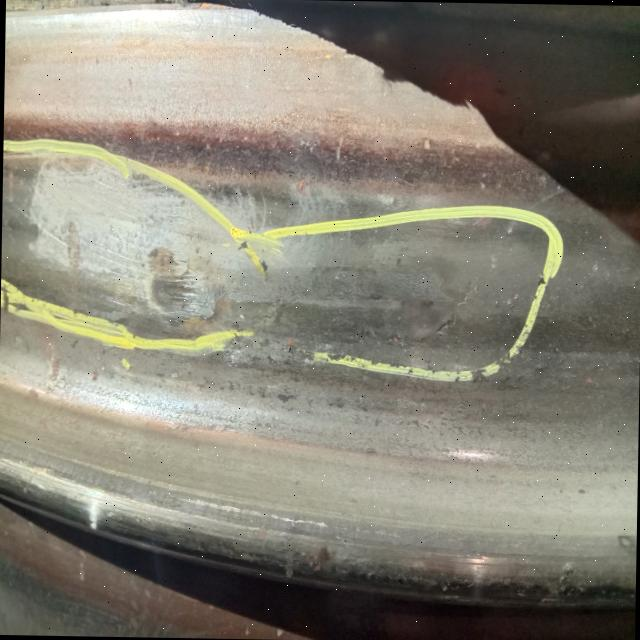Contact_Fatigue_Cracks: (406, 271, 481, 365)
flat: (18, 174, 221, 322)
